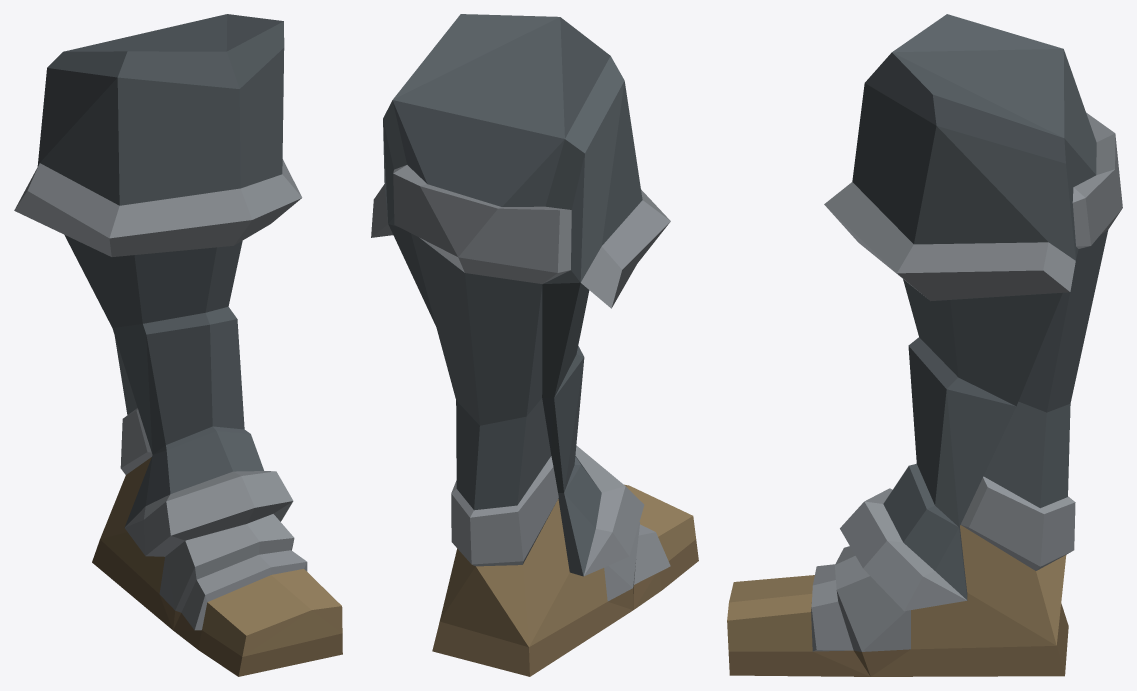
The model's file is Chr_LegRight_Female_06_Static.fbx.
3 renders of one model, left to right at view 1: azimuth 30°, elevation 25°; view 2: azimuth 150°, elevation 25°; view 3: azimuth 270°, elevation 25°, orthographic. The views are drawn at different scales.
Parts seen in each view (by area): view 1: Chr_LegRight_Female_06_Static; view 2: Chr_LegRight_Female_06_Static; view 3: Chr_LegRight_Female_06_Static.
Part boxes in pixels (bbox=[...]): Chr_LegRight_Female_06_Static: bbox=[14, 14, 342, 676]; Chr_LegRight_Female_06_Static: bbox=[371, 14, 698, 676]; Chr_LegRight_Female_06_Static: bbox=[727, 14, 1122, 676].
Size of the model in its own units: 0.1812 by 0.4043 by 0.241.
